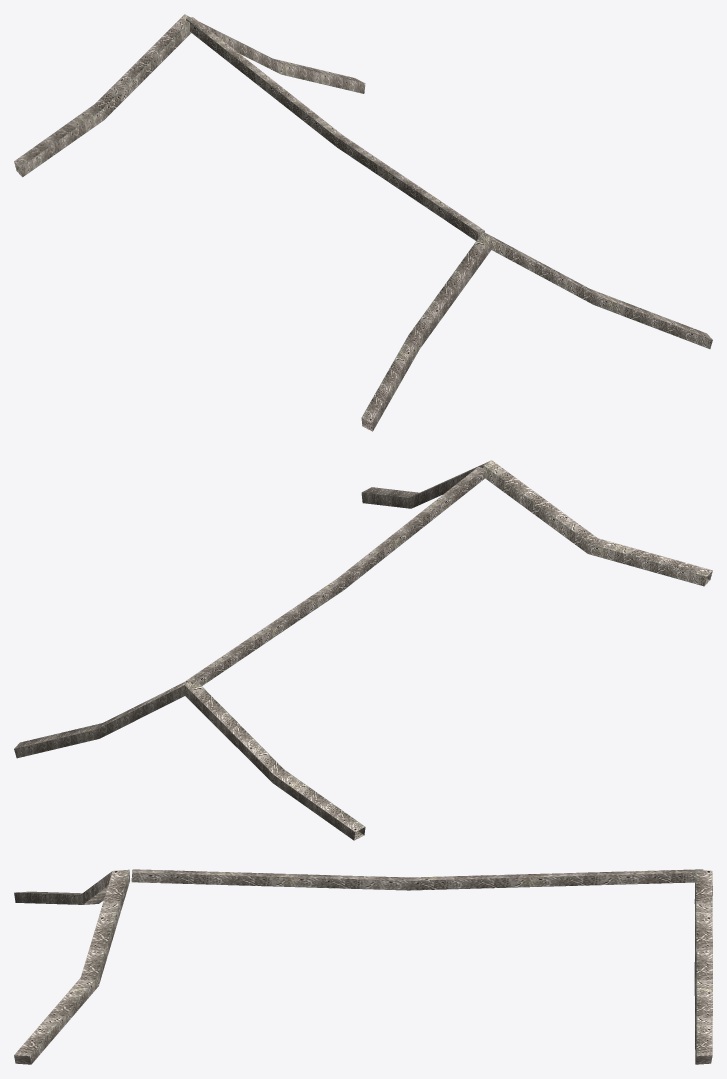
The model's file is rrr02.obj.
The picture shows the model from 3 angles, top to bottom: view 1: azimuth 30°, elevation 25°; view 2: azimuth 150°, elevation 25°; view 3: azimuth 270°, elevation 25°; orthographic projection. The views are drawn at different scales.
Parts seen in each view (by area): view 1: rrr02; view 2: rrr02; view 3: rrr02.
Boxes of the visible parts, bbox=[...] form: rrr02: bbox=[14, 14, 712, 431]; rrr02: bbox=[14, 460, 712, 840]; rrr02: bbox=[14, 869, 712, 1064].
Bounding box in the file's own units: 238 × 76.68 × 428.
